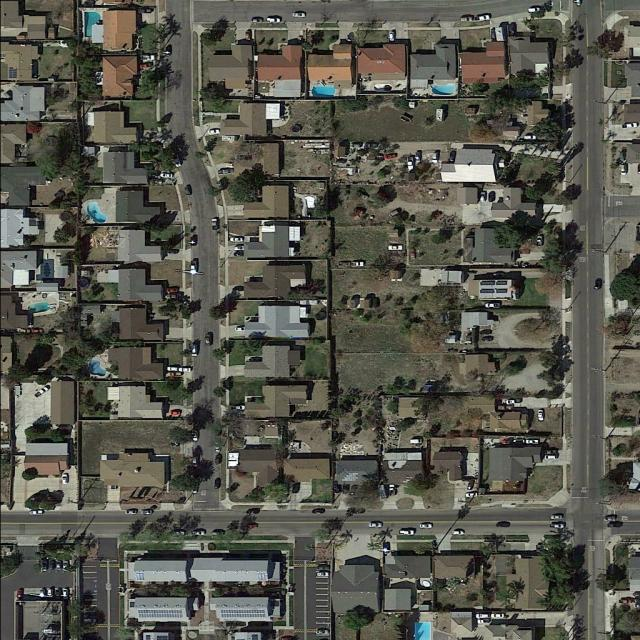large-vehicle: (407, 156, 414, 172)
small-vehicle: (34, 386, 49, 399), (171, 152, 181, 169), (466, 479, 476, 492), (291, 481, 301, 494), (15, 328, 31, 335), (496, 521, 511, 528), (388, 209, 399, 218), (364, 142, 378, 149), (607, 522, 621, 529), (354, 208, 366, 216), (351, 261, 364, 268), (384, 154, 397, 161), (486, 303, 501, 309), (622, 123, 637, 129), (219, 169, 234, 175), (388, 245, 402, 251), (191, 345, 198, 357), (246, 524, 258, 531), (234, 251, 246, 258), (382, 542, 389, 554), (312, 508, 326, 514), (544, 455, 557, 461), (316, 629, 329, 635), (369, 522, 382, 528), (401, 530, 414, 536), (390, 484, 396, 497), (476, 613, 489, 619), (246, 509, 259, 515), (449, 151, 455, 164), (351, 508, 364, 514), (620, 165, 627, 176), (479, 14, 490, 21), (432, 153, 439, 164), (190, 236, 197, 247), (351, 484, 358, 495), (481, 329, 492, 336), (538, 410, 544, 422), (160, 173, 172, 179), (205, 334, 211, 346), (466, 492, 478, 498), (293, 12, 305, 18), (166, 288, 178, 294), (84, 618, 96, 624), (31, 329, 43, 335), (526, 439, 538, 445), (506, 399, 516, 406), (29, 511, 43, 516), (141, 55, 155, 60), (165, 249, 179, 254), (461, 16, 472, 22), (415, 152, 421, 163), (209, 129, 220, 135), (141, 509, 152, 515), (318, 572, 329, 578), (212, 219, 218, 230), (596, 279, 602, 290), (480, 191, 486, 202), (501, 441, 512, 447), (551, 524, 564, 529), (603, 516, 616, 521), (409, 439, 422, 444), (267, 18, 280, 23), (544, 451, 557, 456), (491, 614, 504, 619), (619, 599, 631, 604), (524, 136, 536, 141), (528, 8, 540, 13), (185, 186, 191, 196), (215, 442, 221, 452), (234, 246, 246, 251), (62, 475, 68, 485), (126, 510, 136, 516), (317, 566, 329, 571), (343, 484, 349, 494), (478, 619, 490, 624), (193, 531, 205, 536), (349, 143, 361, 148), (63, 561, 69, 571), (489, 192, 495, 202), (619, 152, 625, 162), (481, 337, 493, 342), (139, 64, 151, 69), (551, 515, 562, 520), (169, 411, 180, 416), (421, 524, 432, 529), (173, 531, 184, 536), (166, 45, 171, 56), (519, 249, 530, 254), (43, 561, 48, 572), (18, 589, 23, 600), (64, 588, 69, 599), (138, 9, 151, 13), (211, 532, 224, 536), (246, 31, 251, 41), (191, 264, 196, 274), (193, 432, 198, 442), (334, 484, 339, 494), (193, 457, 198, 467), (215, 479, 220, 489), (49, 560, 54, 570), (56, 561, 61, 571), (55, 589, 60, 599), (538, 236, 543, 246), (514, 439, 524, 444), (231, 238, 243, 242), (179, 368, 191, 372), (389, 32, 394, 41), (236, 406, 245, 411), (216, 456, 221, 465), (40, 589, 45, 598), (453, 531, 464, 535), (251, 19, 262, 23), (235, 328, 246, 332), (48, 588, 52, 597), (168, 368, 178, 371)
